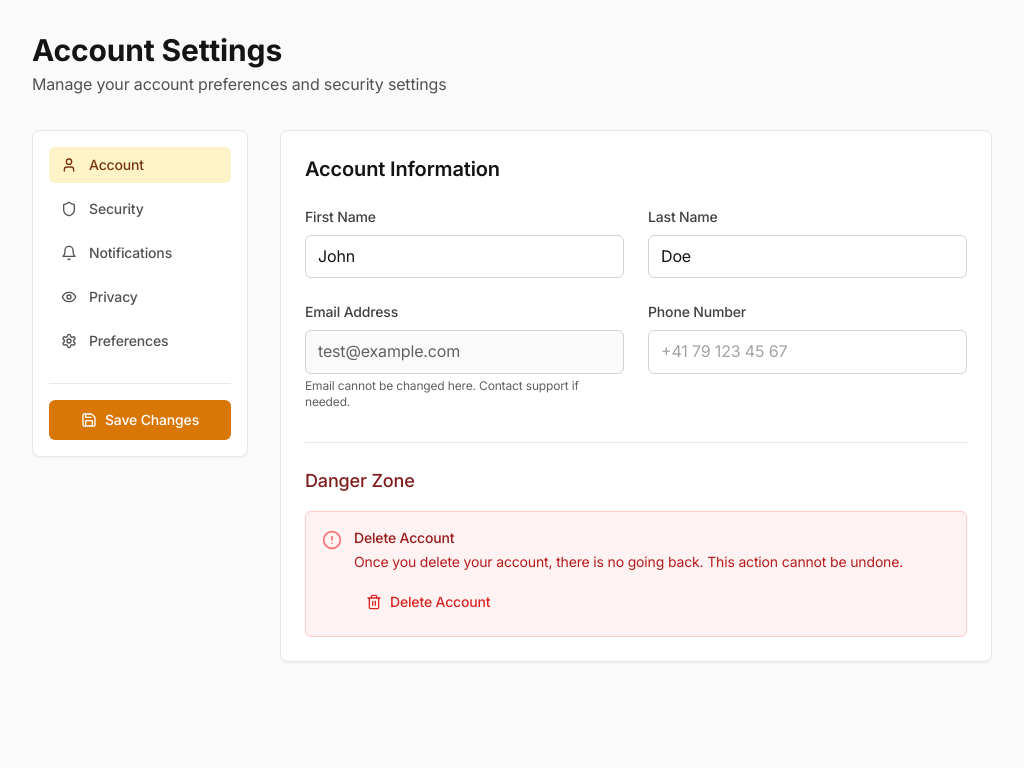
Test case: SettingsPage › ⚙️ Preferences Tab › should display language selection
Click the button "Preferences". click: (140, 341)
box: [49,323,231,359]
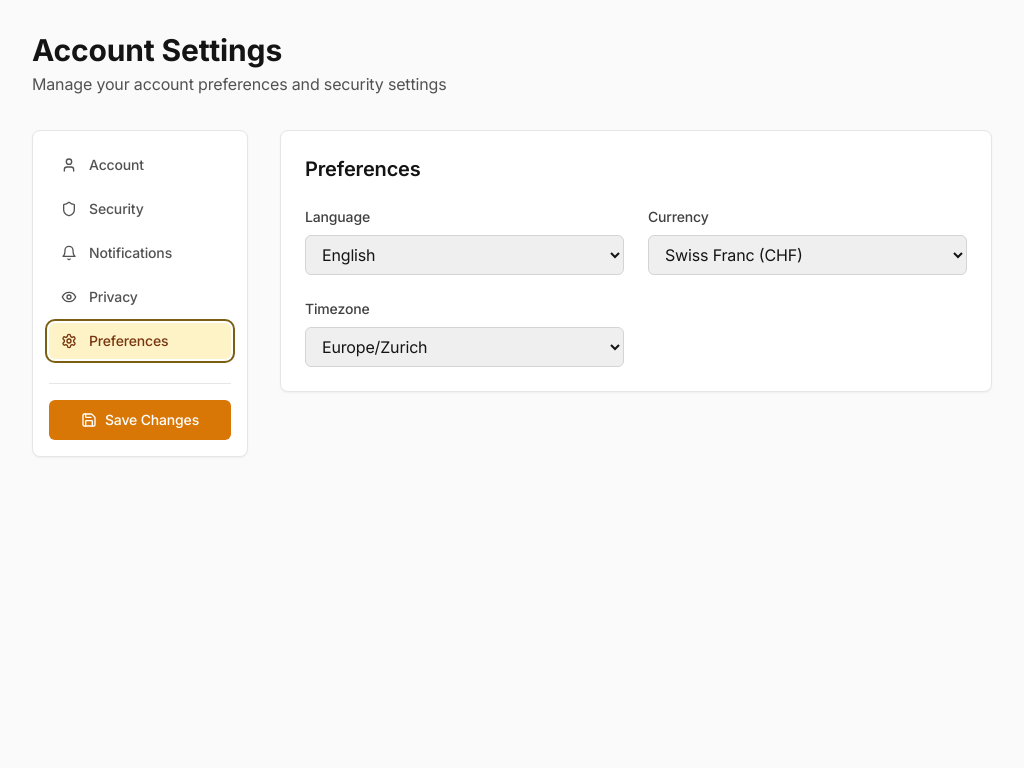
Now the dropdown showing "English" below "Language" is shown, box [305,235,624,275]
